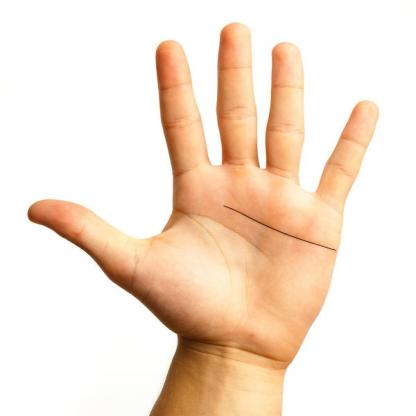palm: (25, 22, 378, 364)
